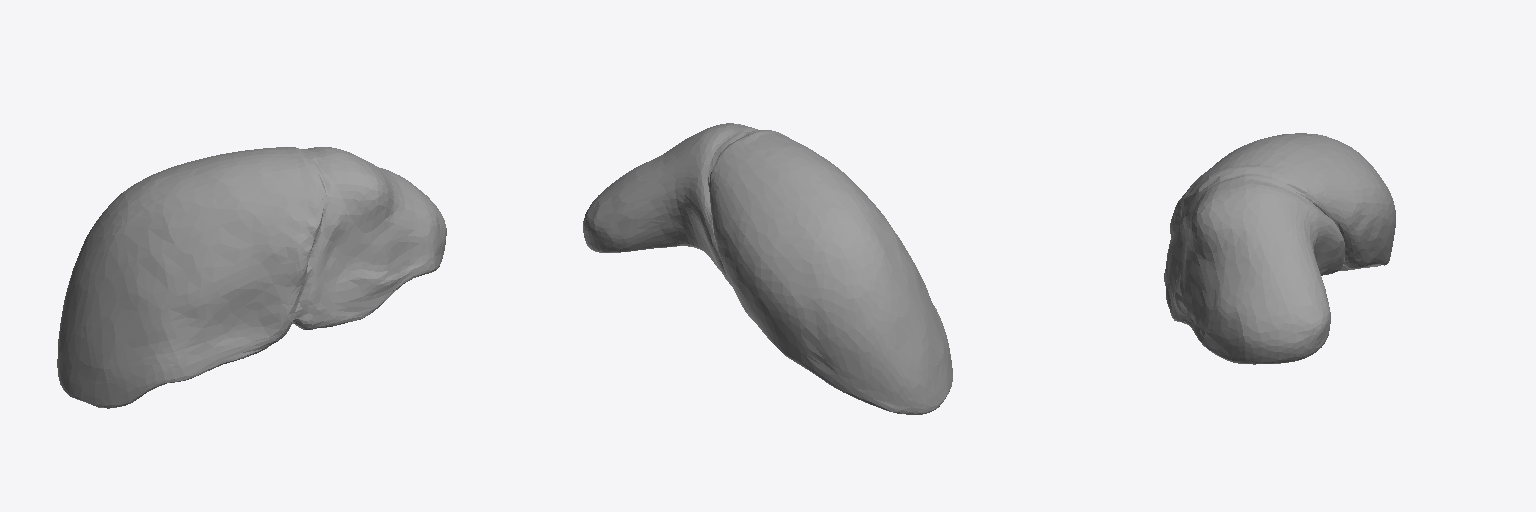
File: liver3-HD.obj
3 renders of one model, left to right at view 1: azimuth 30°, elevation 25°; view 2: azimuth 150°, elevation 25°; view 3: azimuth 270°, elevation 25°, orthographic.
Parts seen in each view (by area): view 1: liver_organs_polySurface1.009; view 2: liver_organs_polySurface1.009; view 3: liver_organs_polySurface1.009.
Boxes of the visible parts, <box> form: liver_organs_polySurface1.009: <box>57,147,446,408</box>; liver_organs_polySurface1.009: <box>583,123,952,414</box>; liver_organs_polySurface1.009: <box>1164,133,1395,364</box>.
Size of the model in its own units: 17.78 by 9.86 by 10.